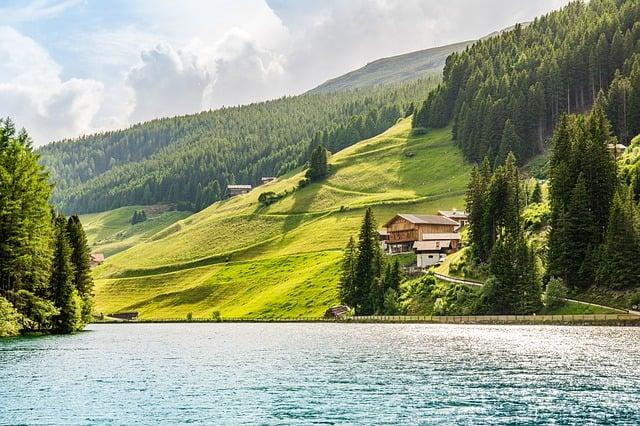Non_Gorille: (71, 63, 577, 353)
